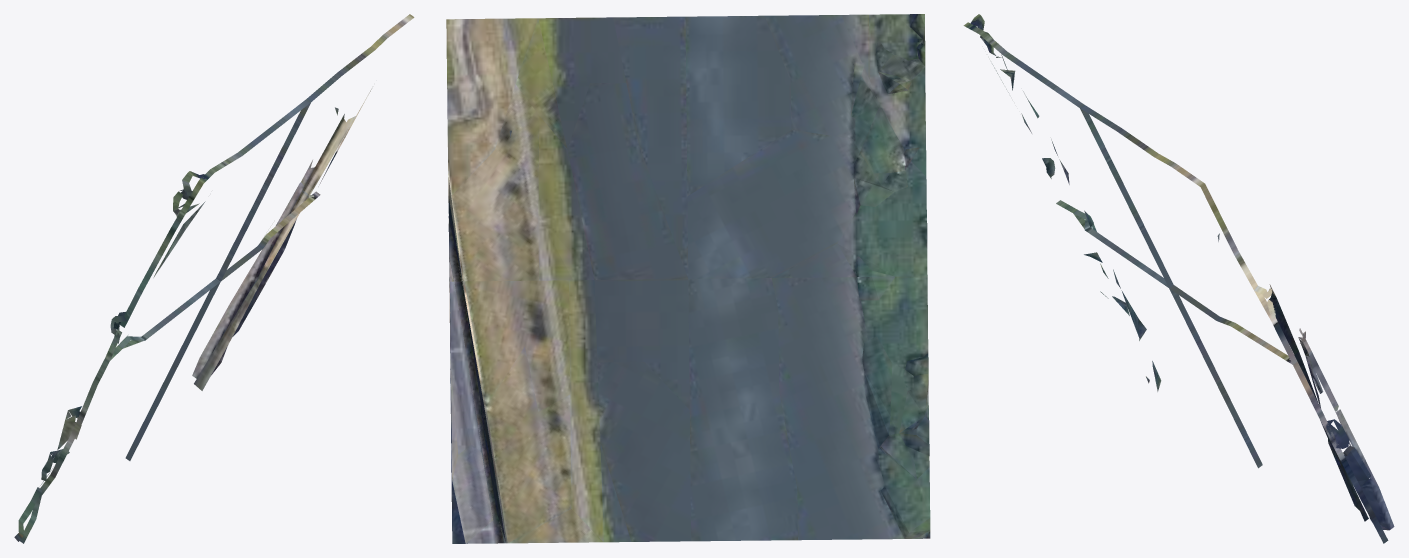
3 views of the same model, side by side, from view 1: azimuth 30°, elevation 25°; view 2: azimuth 150°, elevation 25°; view 3: azimuth 270°, elevation 25° (orthographic). The views are drawn at different scales.
Bounding box in the file's own units: 307 × 282 × 265.
Materials: 1 (1 with a texture image).
